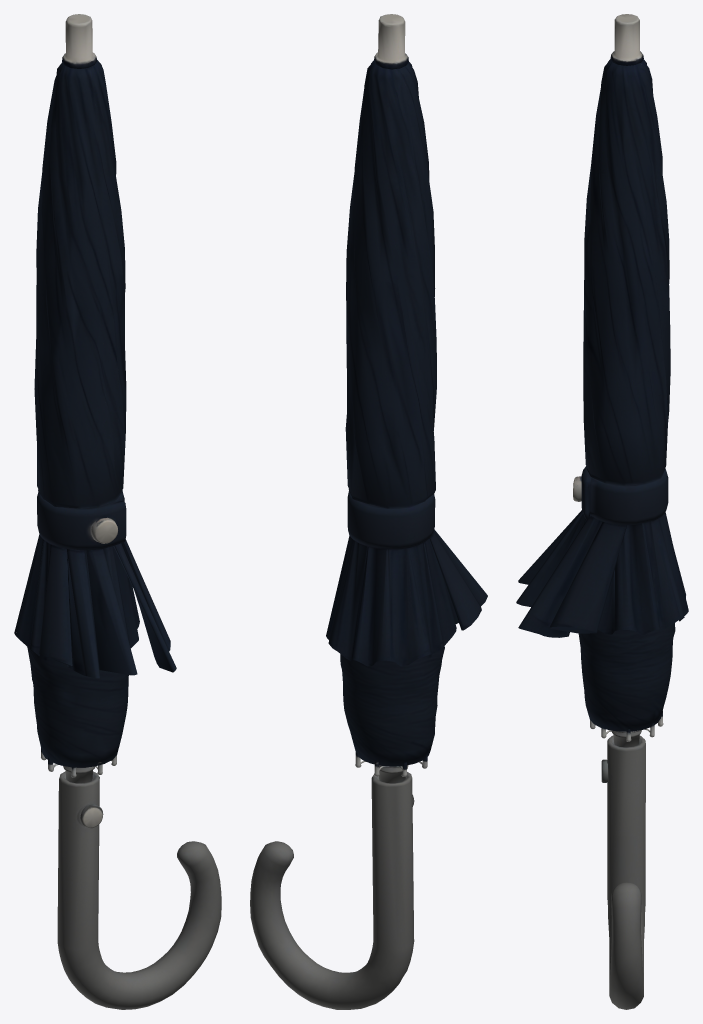
The model's file is 01a153cd-2aaa-715a-92fa-6c2ef9fb87d9.glb.
3 views of the same model, side by side, from view 1: azimuth 30°, elevation 25°; view 2: azimuth 150°, elevation 25°; view 3: azimuth 270°, elevation 25° (orthographic). The views are drawn at different scales.
Parts seen in each view (by area): view 1: tripo_node_efc933c9-8648-4fd4-aeaa-c4624b9afd17; view 2: tripo_node_efc933c9-8648-4fd4-aeaa-c4624b9afd17; view 3: tripo_node_efc933c9-8648-4fd4-aeaa-c4624b9afd17.
Boxes of the visible parts, x1=… form: tripo_node_efc933c9-8648-4fd4-aeaa-c4624b9afd17: x1=14, y1=14, x2=221, y2=1009; tripo_node_efc933c9-8648-4fd4-aeaa-c4624b9afd17: x1=250, y1=14, x2=487, y2=1009; tripo_node_efc933c9-8648-4fd4-aeaa-c4624b9afd17: x1=516, y1=14, x2=688, y2=1009.
Size of the model in its own units: 0.2085 by 0.9995 by 0.1636.
1 material, 1 textured.
